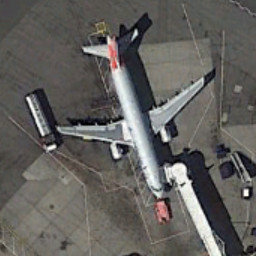Airplane: (48, 22, 209, 203)
